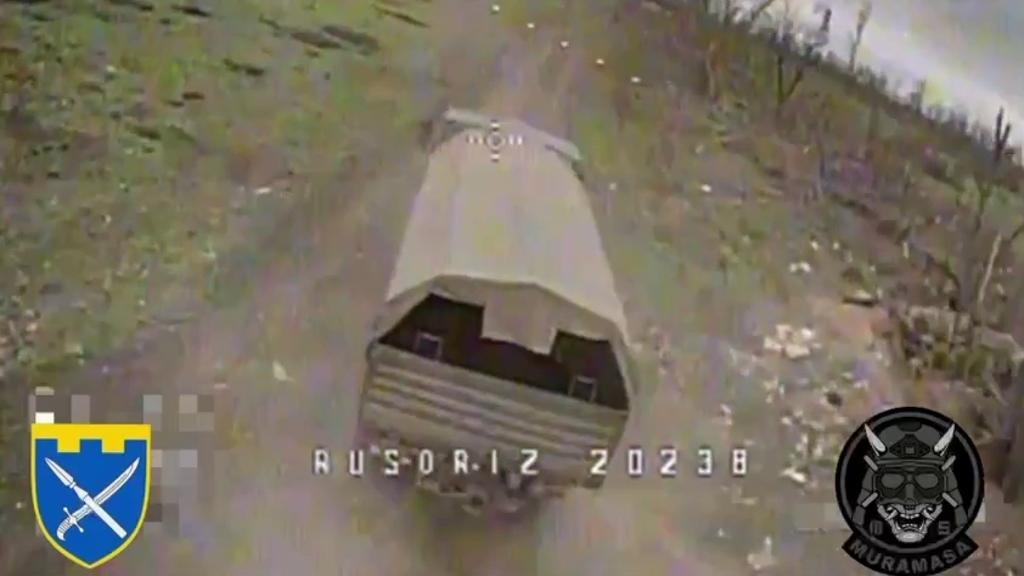TRUCK: (354, 99, 633, 528)
